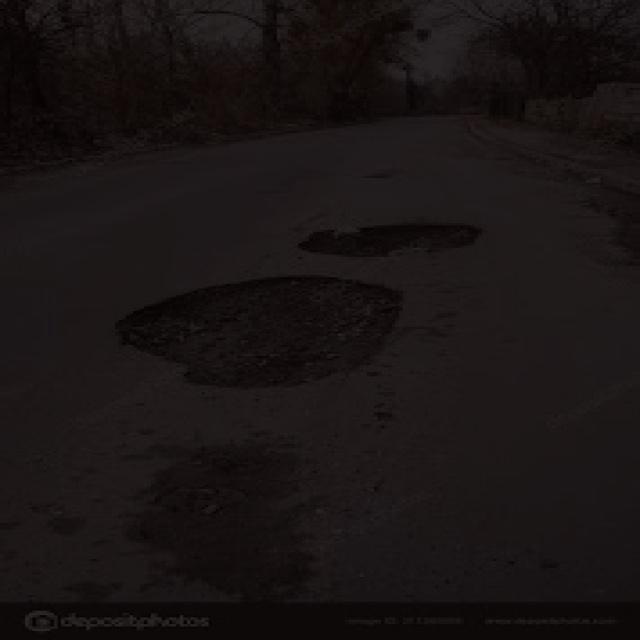Pothole: (101, 268, 417, 422), (277, 216, 489, 262), (350, 164, 405, 186)
